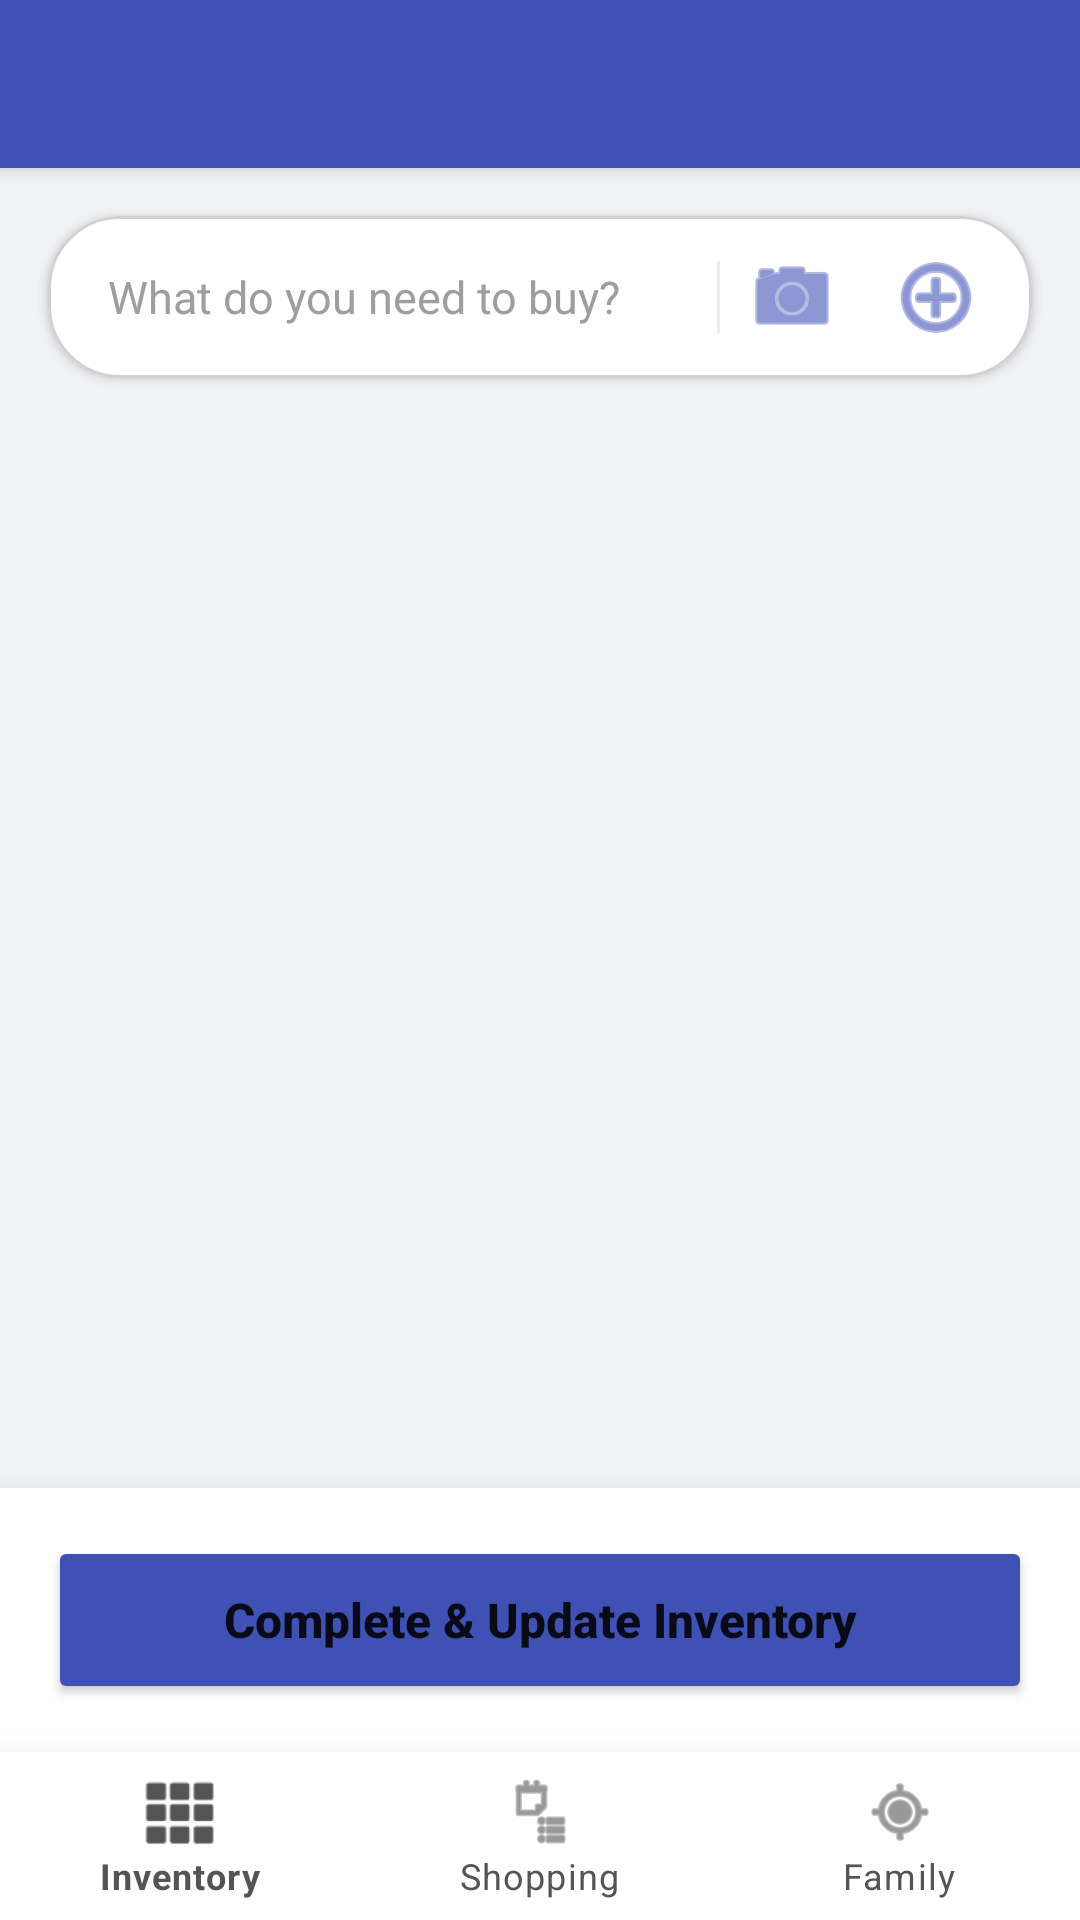

Screen size 1080*1920. Icon name, then its box in pixels as detection(x1, y1, x2, y2):
add: detection(900, 262, 972, 333)
camera: detection(755, 266, 829, 325)
